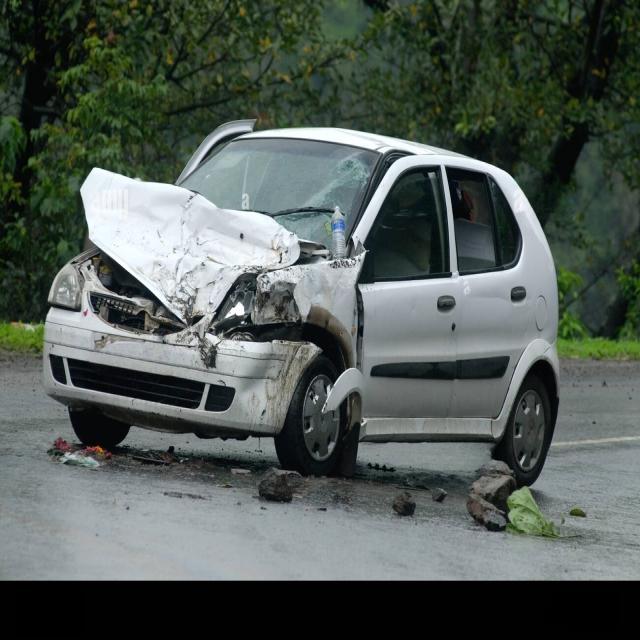accident: (41, 122, 556, 486)
